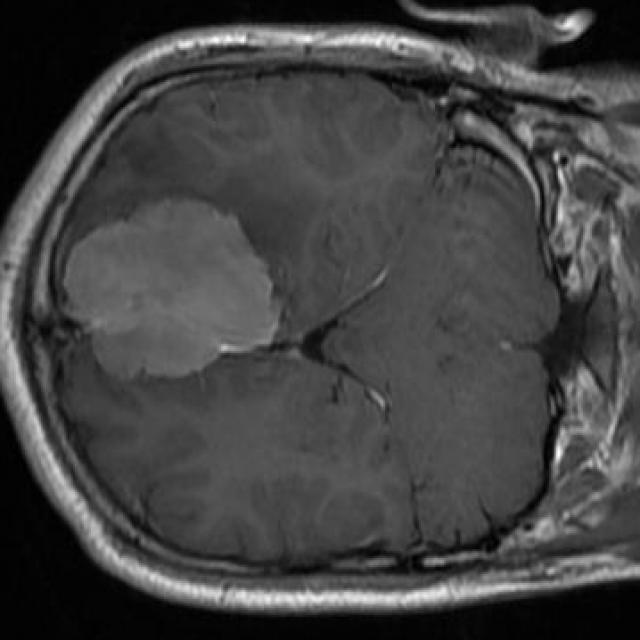meningioma: (62, 200, 278, 378)
